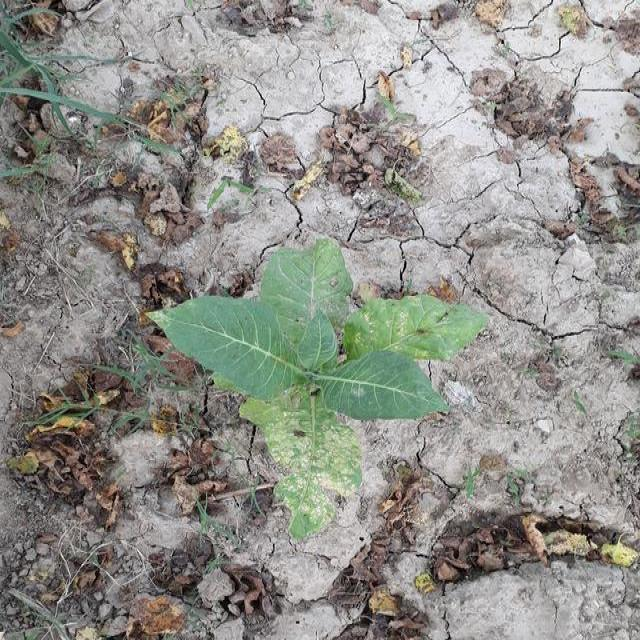crop: (142, 256, 466, 553)
